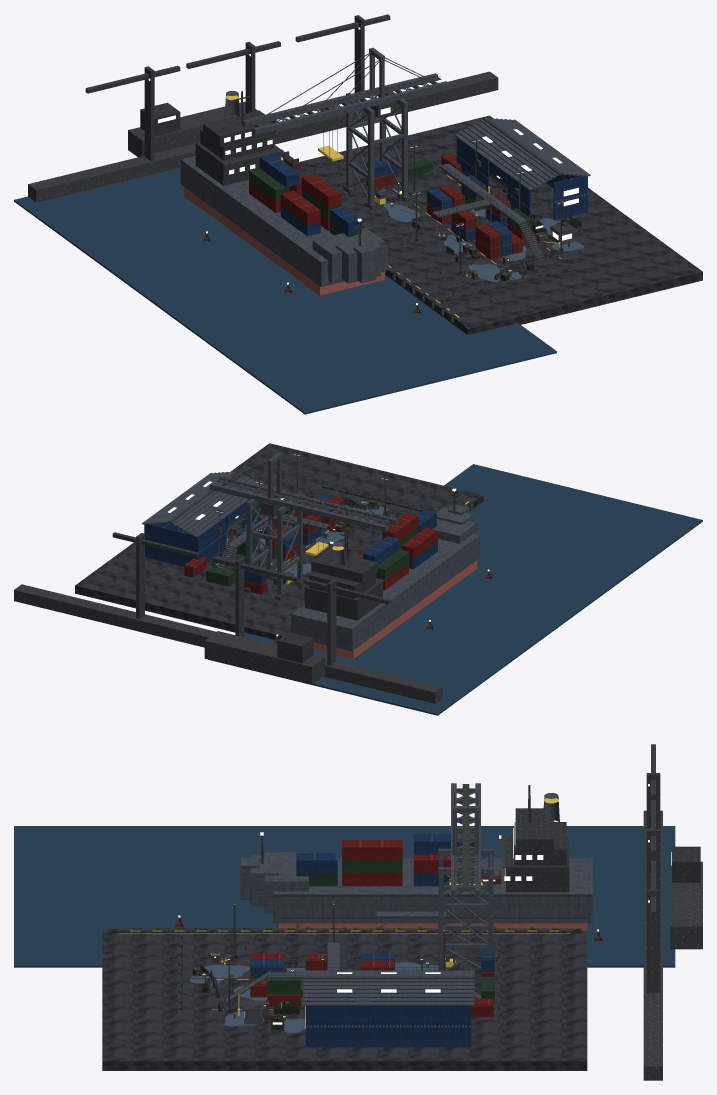
Rendered from port_environment.glb.
3 renders of one model, top to bottom at view 1: azimuth 30°, elevation 25°; view 2: azimuth 150°, elevation 25°; view 3: azimuth 270°, elevation 25°, orthographic. The views are drawn at different scales.
Parts seen in each view (by area): view 1: NightPort_Environment; view 2: NightPort_Environment; view 3: NightPort_Environment.
Part boxes in pixels (box(x1,y1,x2,y2)): NightPort_Environment: box(14, 14, 702, 414); NightPort_Environment: box(14, 443, 702, 715); NightPort_Environment: box(14, 744, 702, 1080).
Bounding box in the file's own units: 112 × 34.45 × 125.
Materials: 18 (10 with a texture image).
